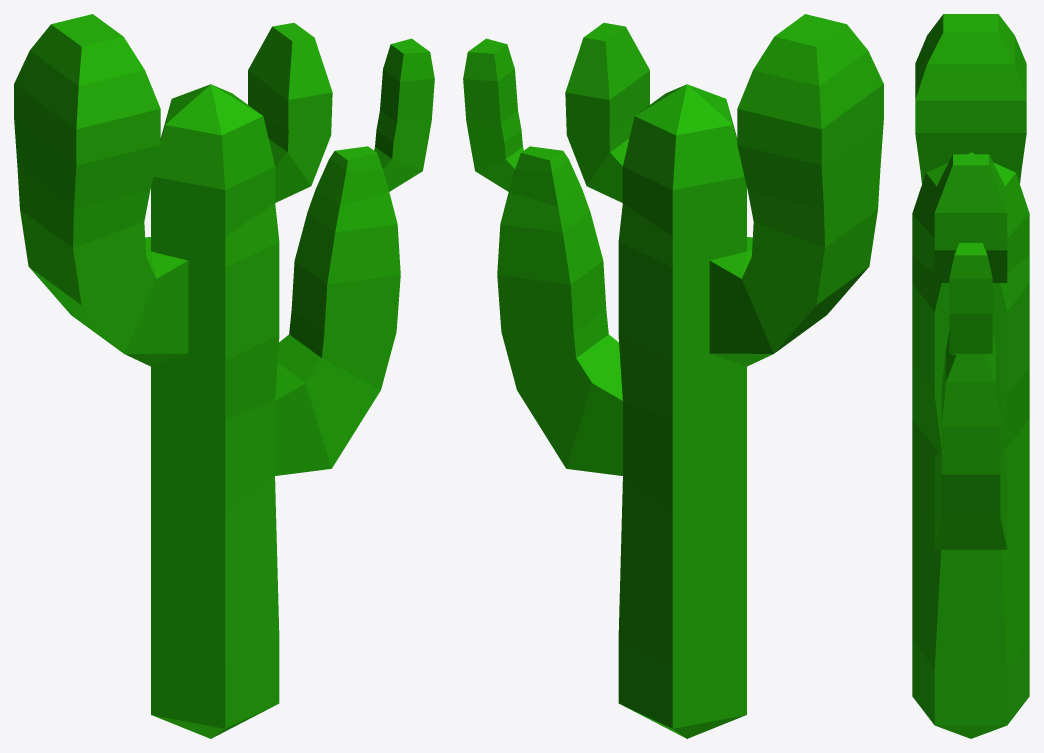
File: cactos.fbx
3 renders of one model, left to right at view 1: azimuth 30°, elevation 25°; view 2: azimuth 150°, elevation 25°; view 3: azimuth 270°, elevation 25°, orthographic. The views are drawn at different scales.
Parts seen in each view (by area): view 1: Upper part, Center part, Bottom part; view 2: Upper part, Center part, Bottom part; view 3: Upper part, Bottom part, Center part.
Boxes of the visible parts, left/top/right/bottom form: Upper part: left=14, top=14, right=332, bottom=419; Center part: left=151, top=38, right=434, bottom=515; Bottom part: left=151, top=476, right=279, bottom=738; Upper part: left=565, top=14, right=883, bottom=419; Center part: left=463, top=38, right=746, bottom=515; Bottom part: left=618, top=476, right=746, bottom=738; Upper part: left=912, top=14, right=1029, bottom=451; Bottom part: left=912, top=505, right=1029, bottom=738; Center part: left=912, top=243, right=1029, bottom=549.
Bounding box in the file's own units: 304 × 568 × 91.31.
